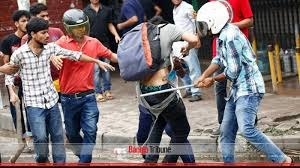person without safety: (20, 18, 69, 156)
